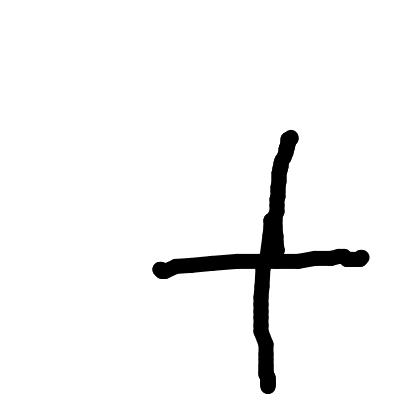plus: (153, 127, 371, 392)
